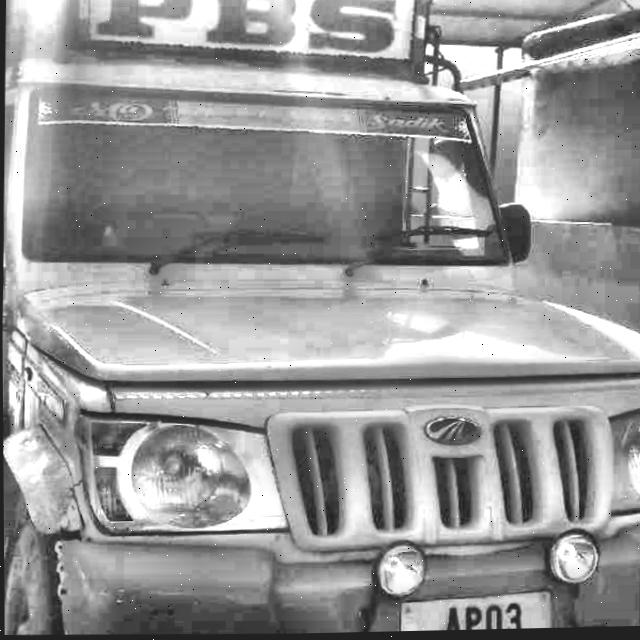light_vehicle: (0, 44, 640, 640)
